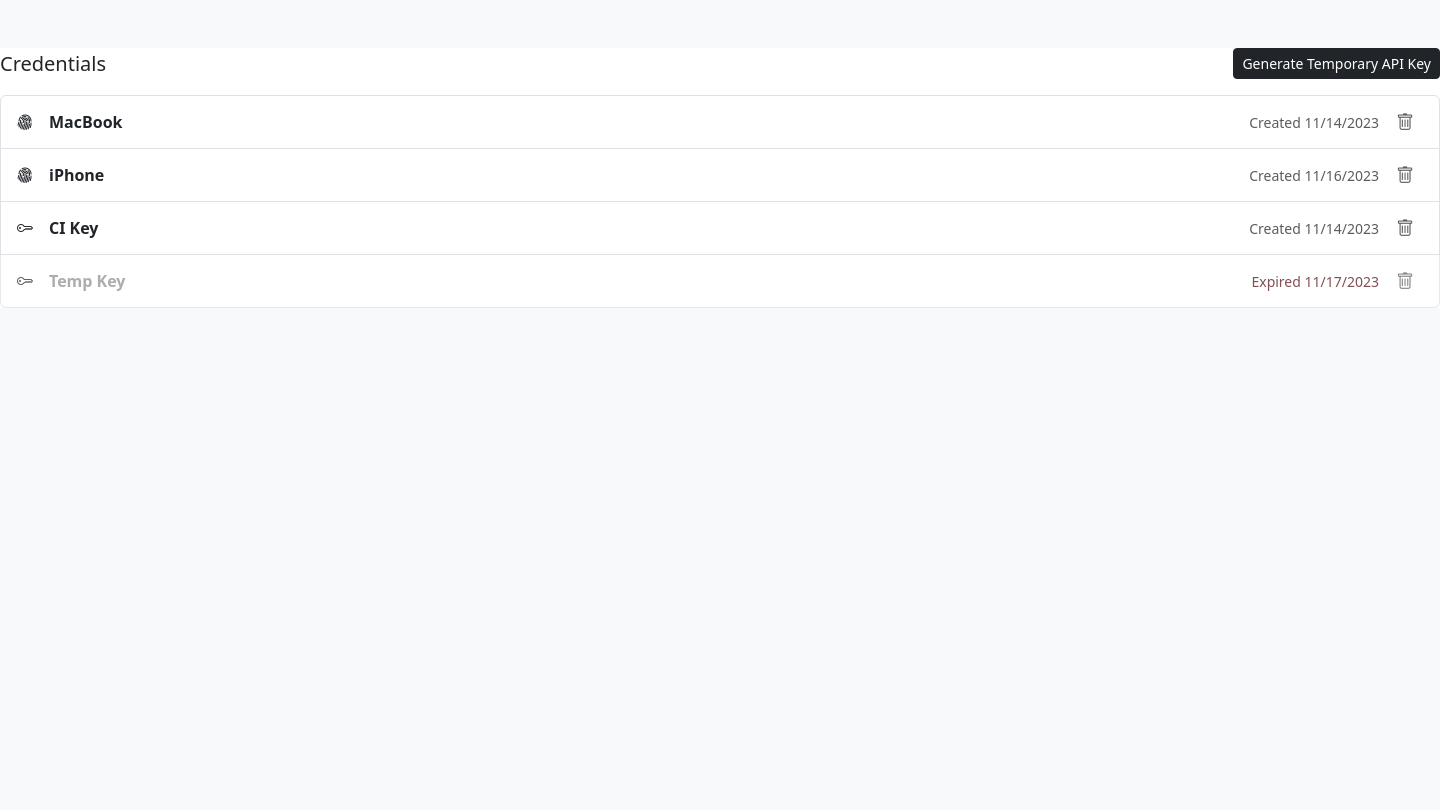
Test: AdminCredentialsSection › delete passkey › closes modal on cancel
Click the button named "Delete passkey MacBook".
click(1405, 122)  # box [1387,104,1423,140]
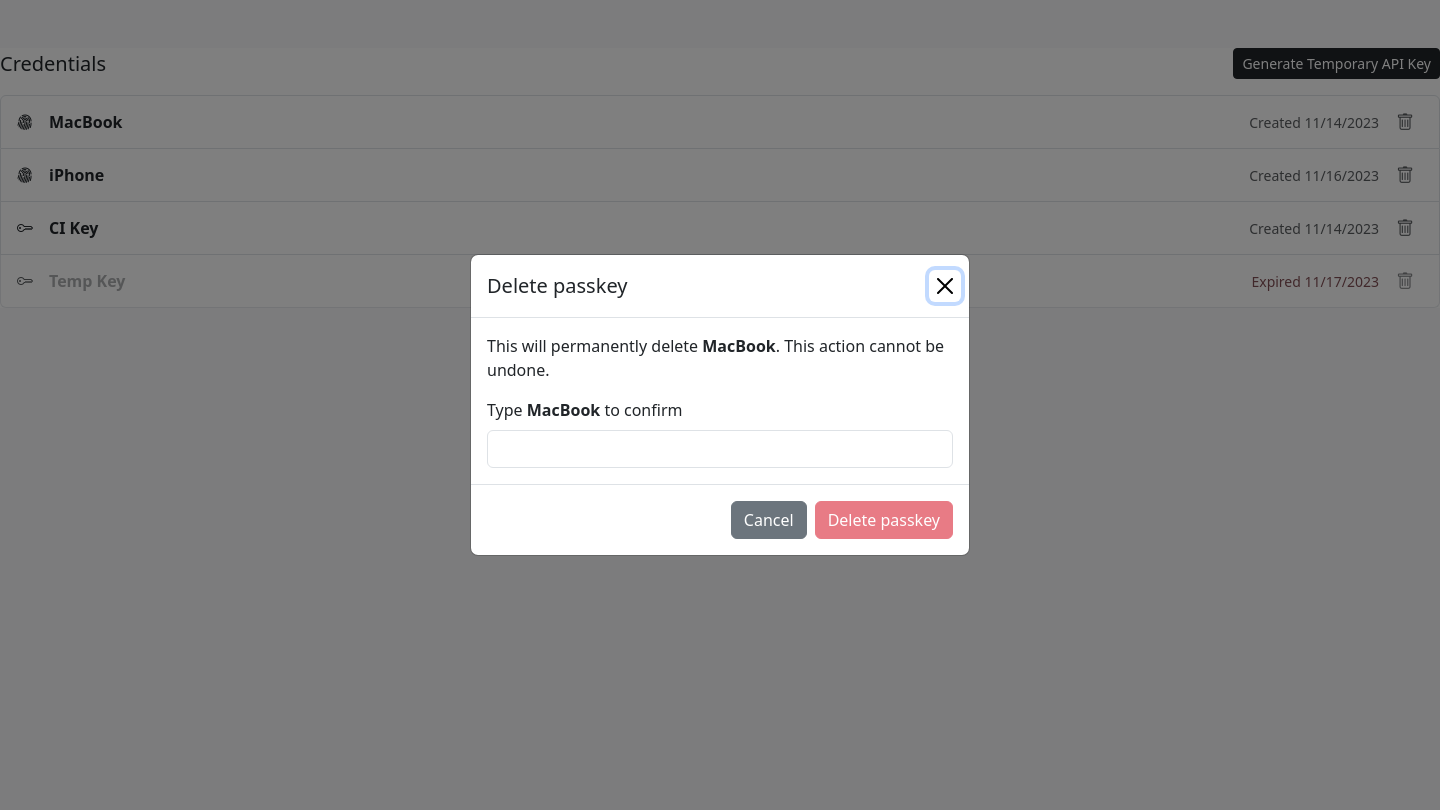
Expected: the dialog is shown, [470,254,970,556]
Click the button "Cancel".
click(769, 520)  # box [731,501,807,539]
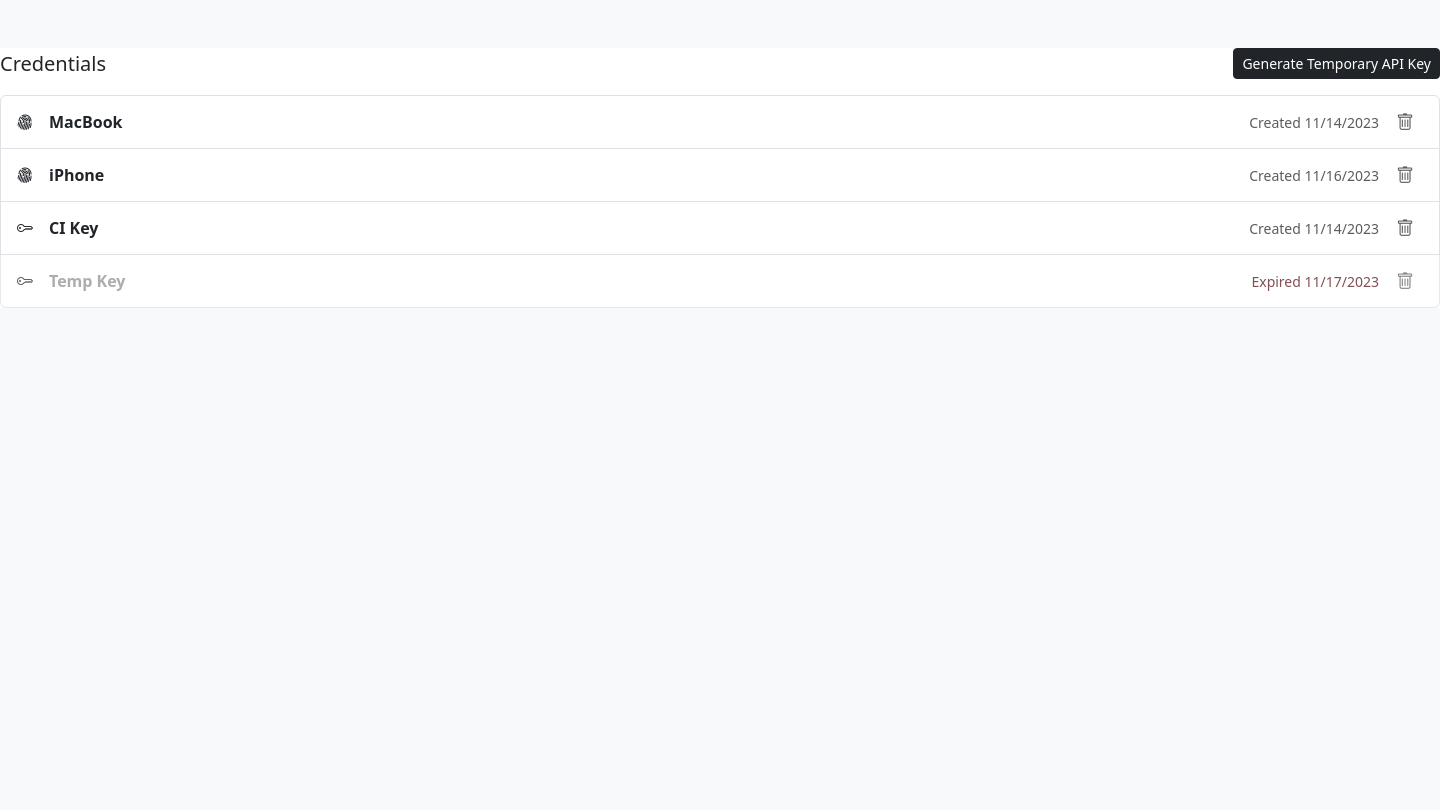
Expected: the dialog is gone
